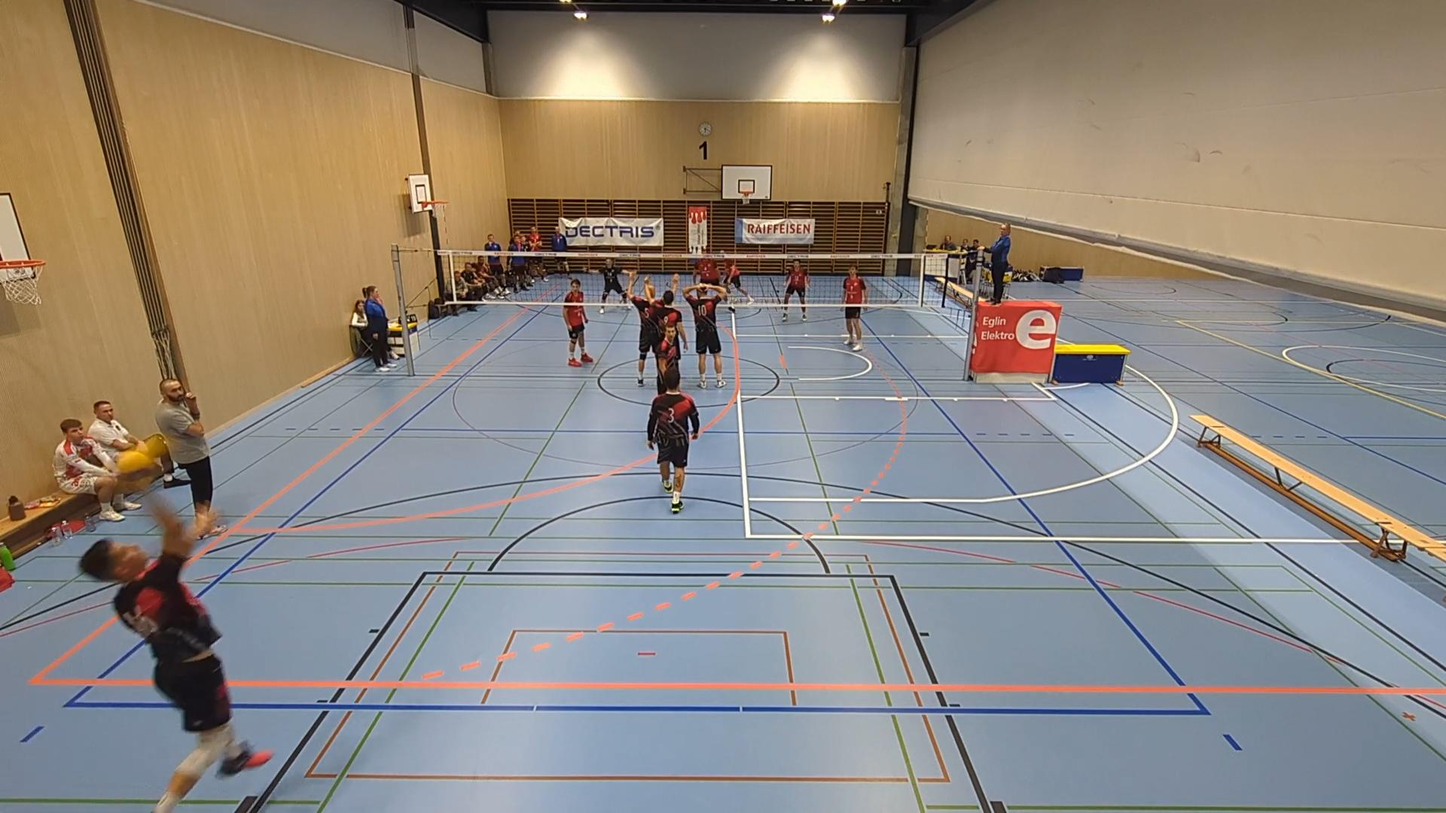Player: (647, 365, 700, 513), (684, 284, 727, 388), (627, 272, 658, 386), (563, 278, 593, 366), (844, 266, 868, 351), (654, 323, 680, 394), (782, 260, 809, 321), (599, 257, 627, 313), (725, 259, 753, 303), (695, 257, 719, 285)
Serve: (82, 460, 278, 813)
ball: (108, 434, 178, 477)
